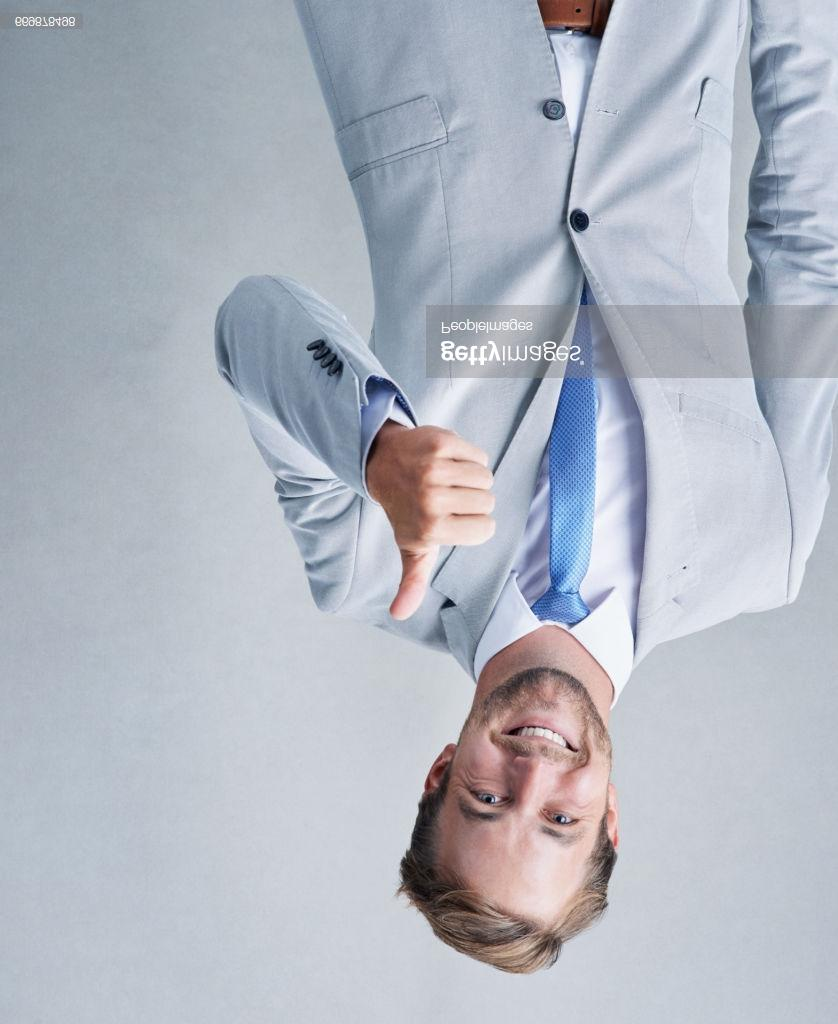thumbsdown: (388, 429, 496, 621)
